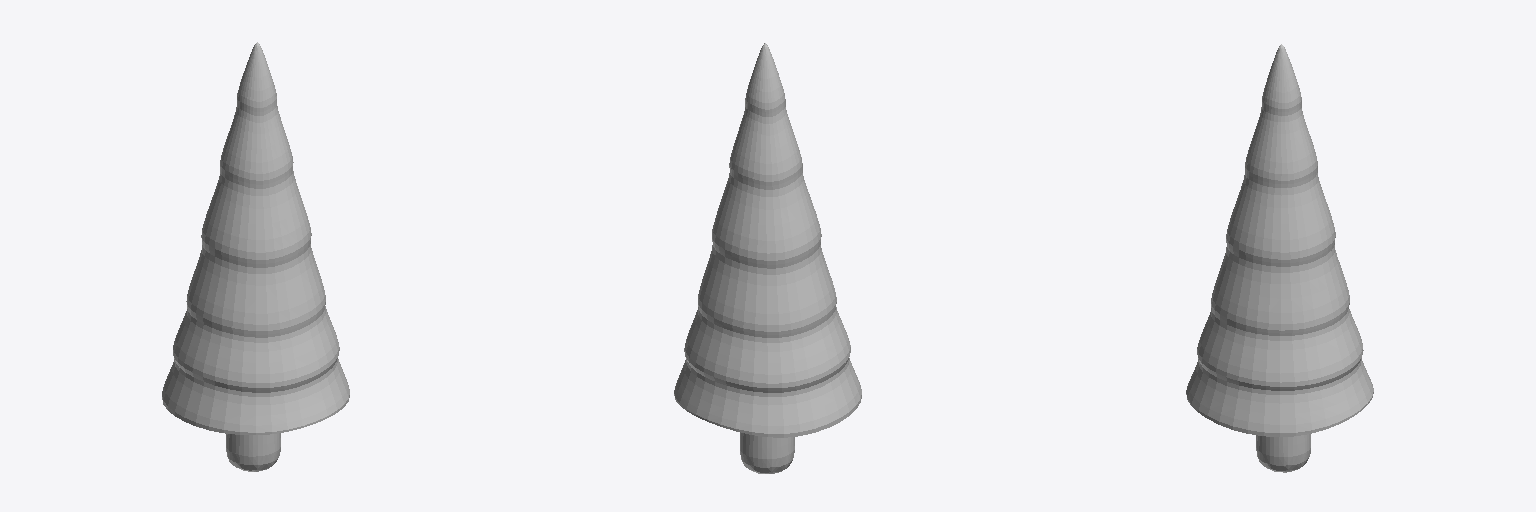
Rendered from better.obj.
3 views of the same model, side by side, from view 1: azimuth 30°, elevation 25°; view 2: azimuth 150°, elevation 25°; view 3: azimuth 270°, elevation 25° (orthographic).
Parts seen in each view (by area): view 1: Cylinder; view 2: Cylinder; view 3: Cylinder.
Boxes of the visible parts, x1=… form: Cylinder: x1=162, y1=42, x2=349, y2=471; Cylinder: x1=674, y1=43, x2=861, y2=473; Cylinder: x1=1186, y1=44, x2=1373, y2=472.
Size of the model in its own units: 2.02 by 5.05 by 2.02.